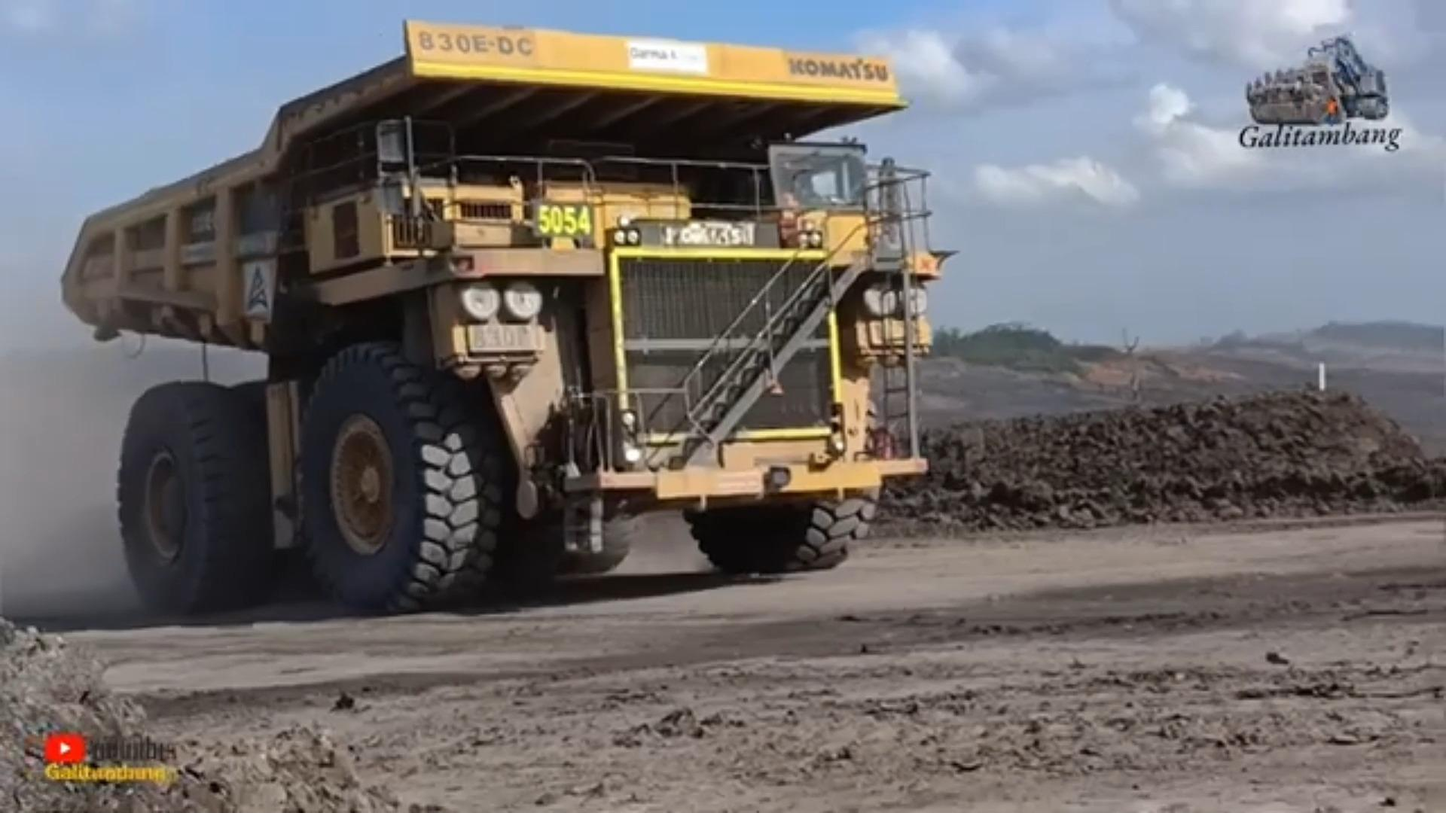HD-Truck: (61, 20, 956, 614)
